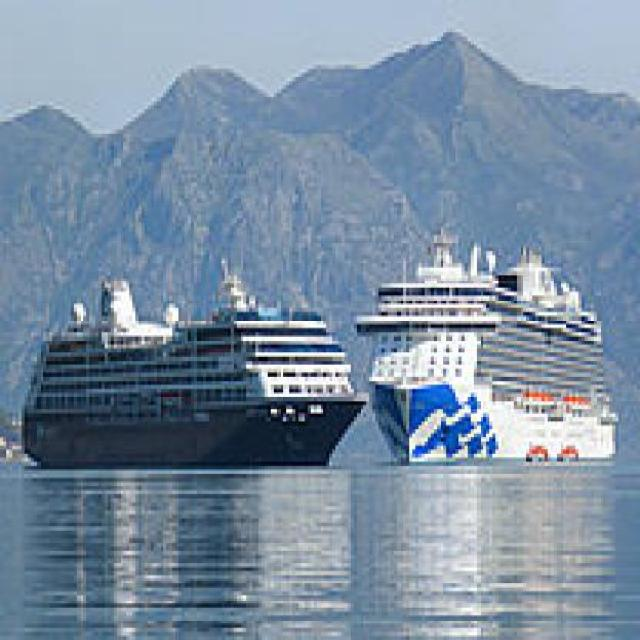cruise: (44, 260, 340, 467), (364, 244, 623, 463)
